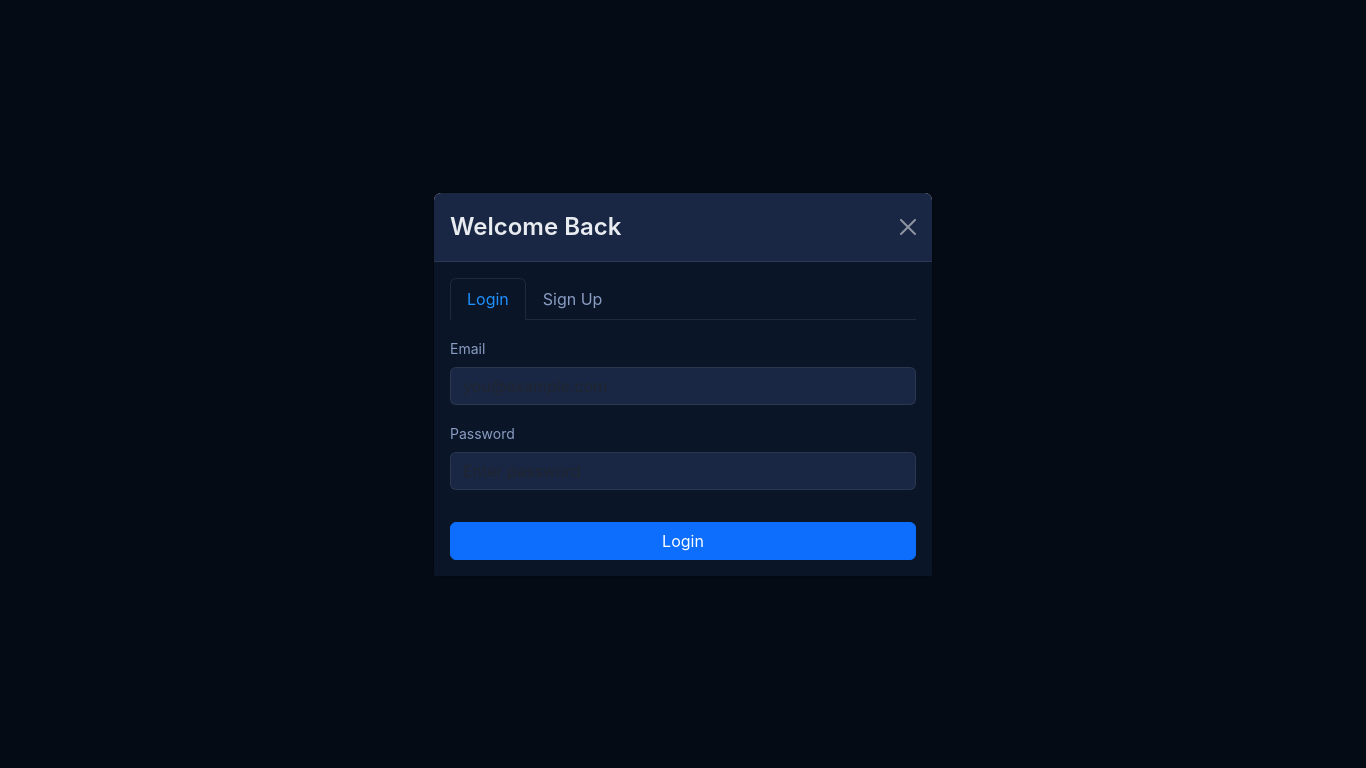
Test: AuthModal › displays error message on Firebase auth failure
The image size is (1366, 768).
Type "a@b.com" into the field labelled "Email" at (683, 386), box [450,366,916,404]
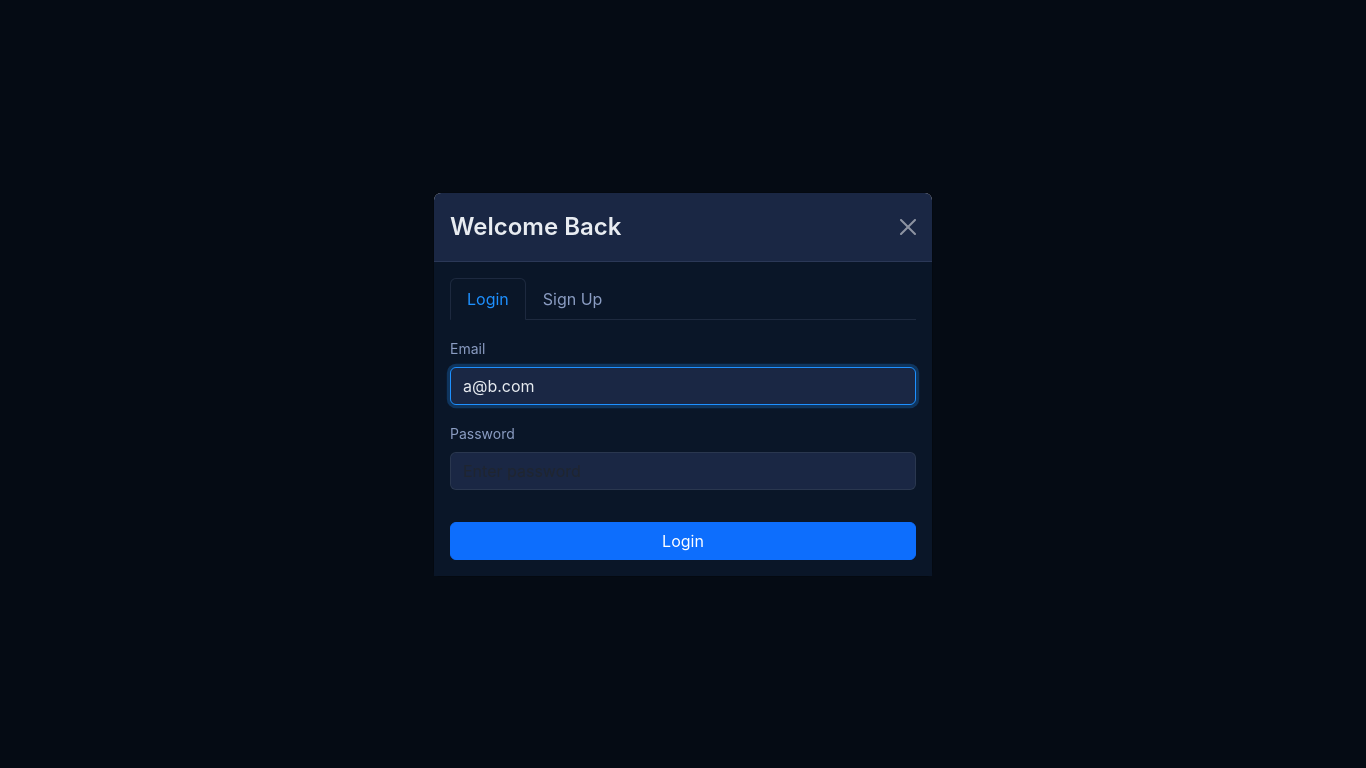
Type "wrong" into the password field labelled "Password" at (683, 470), box [450,452,916,490]
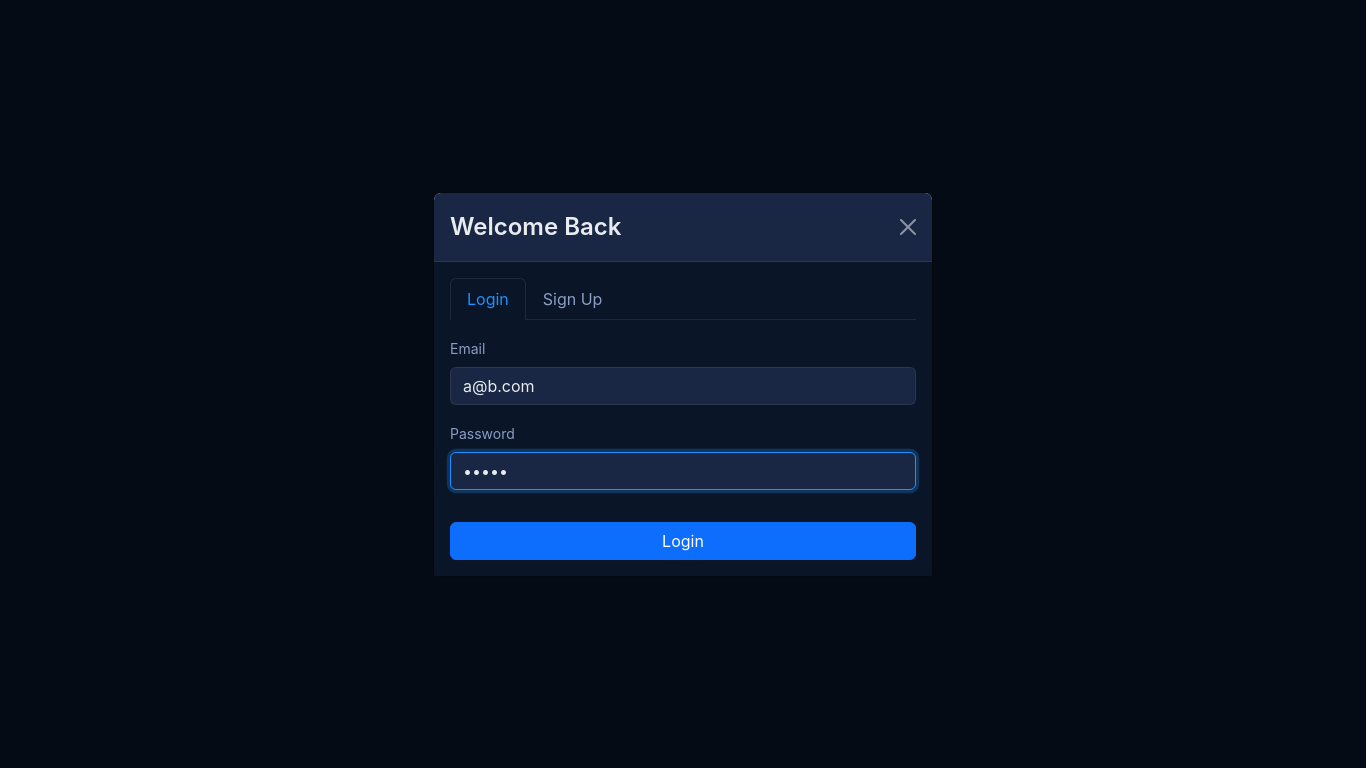
Click the button "Login" below "Password" at (683, 540), box [450,522,916,560]
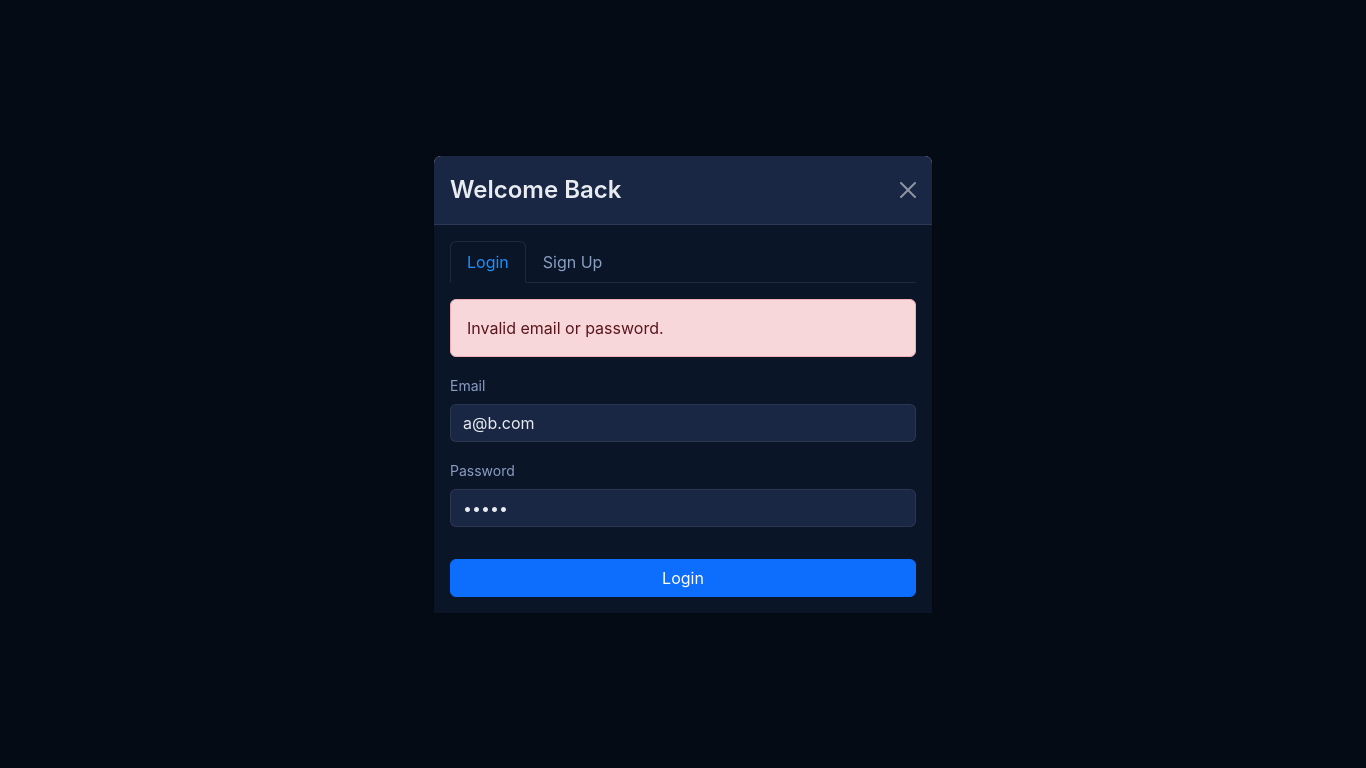
Expected: the text "Invalid email or password." is shown, [450,298,916,356]
